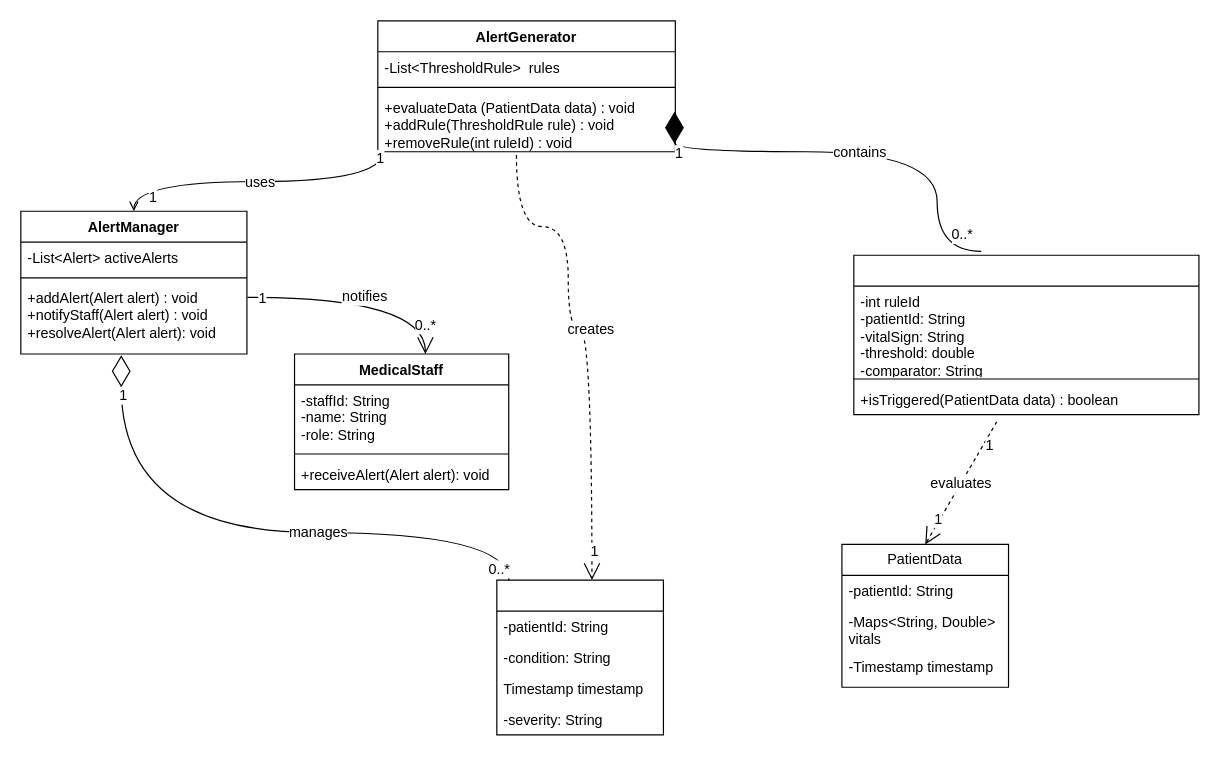
This 1220x759 diagram has some shape labels left out. Each missing label, with the box of its shape:
Alert: (496, 579, 663, 735)
ThresholdRule: (853, 254, 1199, 415)
